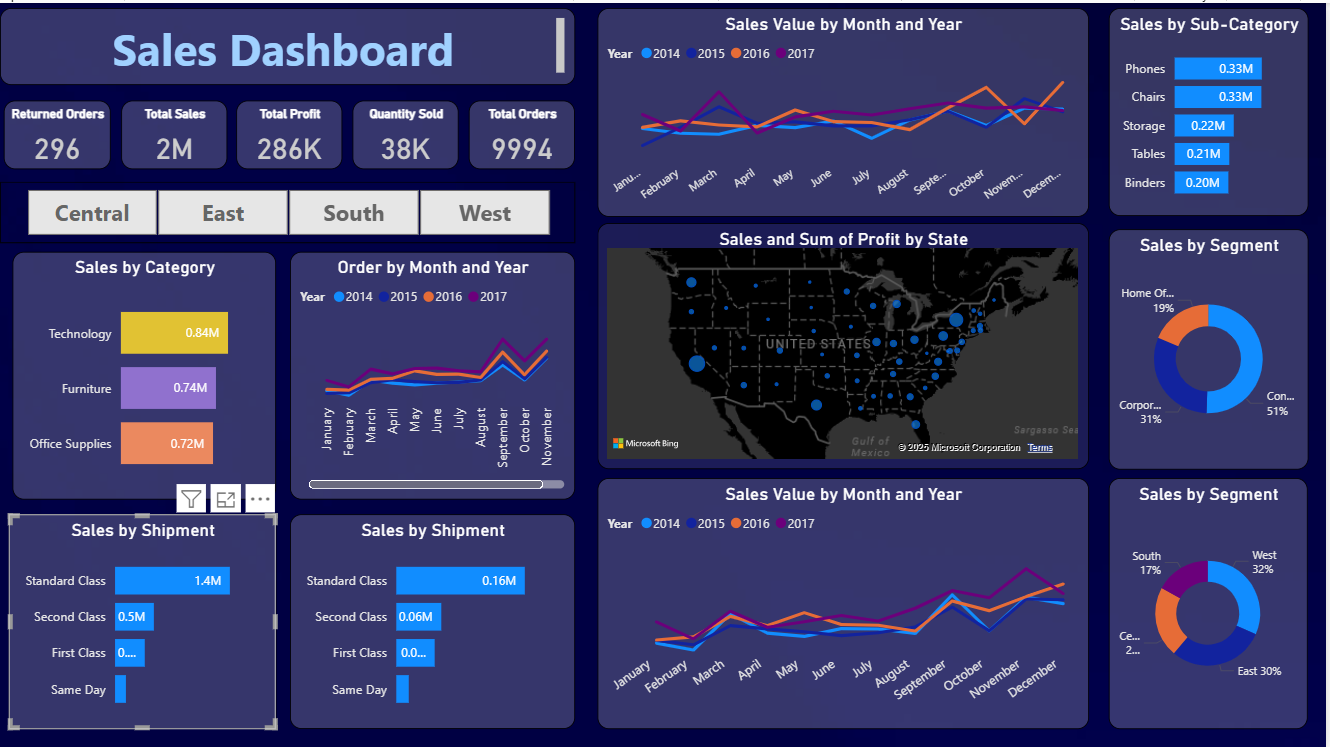

This screenshot's page, from the dashboard's own definition file:
{"tool":"powerbi","page":{"name":"Page 1","canvas":[1280,720],"ordinal":0},"visuals":[{"type":"clusteredBarChart","title":"Sales by Category","fields":{"Category":["Orders.Category"],"Y":["Sum(Orders.Sales Value)"]},"box":[12.1,240.1,254.6,238.9],"z":0},{"type":"map","title":"Sales and Sum of Profit by State","fields":{"Category":["Orders.State"],"Size":["Sum(Orders.Sales Value)"]},"box":[576.7,212.1,474.1,237.7],"z":1000},{"type":"clusteredBarChart","title":"Sales by Shipment","fields":{"Category":["Orders.Ship Mode"],"Y":["Sum(Orders.Sales Value)"]},"box":[8.4,493.4,258.2,207.5],"z":2000},{"type":"clusteredBarChart","title":"Sales by Sub-Category","fields":{"Category":["Orders.Sub-Category"],"Y":["Sum(Orders.Sales Value)"]},"box":[1070.1,4.8,193,201.2],"z":3000},{"type":"slicer","fields":{"Values":["Orders.Region"]},"box":[0,172.5,555,59.1],"z":4000},{"type":"textbox","box":[0,4.8,555,74.8],"z":5000},{"type":"areaChart","title":"Sales Value by Month and Year","fields":{"Category":["Orders.Order Date.Variation.Date Hierarchy.Month","Orders.Order Date.Variation.Date Hierarchy.Day"],"Y":["Sum(Orders.Sales Value)"],"Series":["Orders.Order Date.Variation.Date Hierarchy.Year"]},"box":[576.7,458.3,474.1,242.6],"z":6000},{"type":"areaChart","title":"Sales Value by Month and Year","fields":{"Category":["Orders.Order Date.Variation.Date Hierarchy.Month","Orders.Order Date.Variation.Date Hierarchy.Day"],"Series":["Orders.Order Date.Variation.Date Hierarchy.Year"],"Y":["Sum(Orders.Profit)"]},"box":[576.7,4.8,474.1,201.5],"z":7000},{"type":"card","title":"Returned Orders","fields":{"Values":["CountNonNull(Returns.Returned)"]},"box":[3.6,94.1,103,66.4],"z":8000},{"type":"donutChart","title":"Sales by Segment","fields":{"Category":["Orders.Segment"],"Y":["Sum(Orders.Sales Value)"]},"box":[1070.1,218.2,193,231.6],"z":9000},{"type":"card","title":"Total Sales","fields":{"Values":["Sum(Orders.Sales Value)"]},"box":[117,94.1,102.5,66.4],"z":10000},{"type":"donutChart","title":"Sales by Segment","fields":{"Category":["Orders.Region"],"Y":["Sum(Orders.Sales Value)"]},"box":[1070.1,458.3,191.8,242.6],"z":11000},{"type":"card","title":"Total Profit","fields":{"Values":["Sum(Orders.Profit)"]},"box":[228,94.1,102.5,66.4],"z":12000},{"type":"card","title":"Quantity Sold","fields":{"Values":["Sum(Orders.Quantity)"]},"box":[340.2,94.1,102.5,66],"z":13000},{"type":"card","title":"Total Orders","fields":{"Values":["CountNonNull(Orders.Order ID)"]},"box":[452.4,94.1,102.5,66.4],"z":14000},{"type":"areaChart","title":"Order by Month and Year","fields":{"Category":["Orders.Order Date.Variation.Date Hierarchy.Month","Orders.Order Date.Variation.Date Hierarchy.Day"],"Series":["Orders.Order Date.Variation.Date Hierarchy.Year"],"Y":["CountNonNull(Orders.Order ID)"]},"box":[279.9,240.1,275.1,238.9],"z":14001},{"type":"clusteredBarChart","title":"Sales by Shipment","fields":{"Category":["Orders.Ship Mode"],"Y":["Sum(Orders.Profit)"]},"box":[279.9,493.4,275.1,207.5],"z":14002}]}

Visuals, with their boxes in screenshot pixels (x1, y1, x2, y2), scaled from the page's 1280x720 canvas onto the 1330x747 screenshot:
"Sales by Category" clusteredBarChart: (13, 249, 277, 497)
"Sales and Sum of Profit by State" map: (599, 220, 1092, 467)
"Sales by Shipment" clusteredBarChart: (9, 512, 277, 727)
"Sales by Sub-Category" clusteredBarChart: (1112, 5, 1312, 214)
slicer - Orders.Region: (0, 179, 577, 240)
textbox: (0, 5, 577, 83)
"Sales Value by Month and Year" areaChart: (599, 475, 1092, 727)
"Sales Value by Month and Year" areaChart: (599, 5, 1092, 214)
"Returned Orders" card: (4, 98, 111, 167)
"Sales by Segment" donutChart: (1112, 226, 1312, 467)
"Total Sales" card: (122, 98, 228, 167)
"Sales by Segment" donutChart: (1112, 475, 1311, 727)
"Total Profit" card: (237, 98, 343, 167)
"Quantity Sold" card: (353, 98, 460, 166)
"Total Orders" card: (470, 98, 577, 167)
"Order by Month and Year" areaChart: (291, 249, 577, 497)
"Sales by Shipment" clusteredBarChart: (291, 512, 577, 727)
